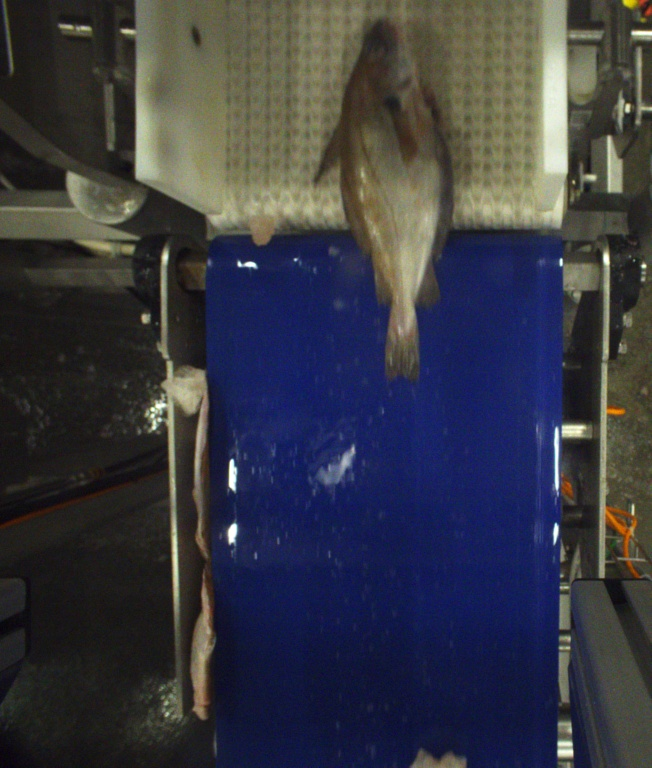BIB: (316, 18, 455, 389)
